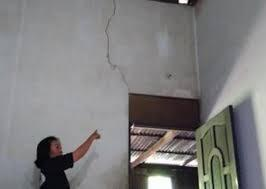crack: (105, 0, 130, 91)
